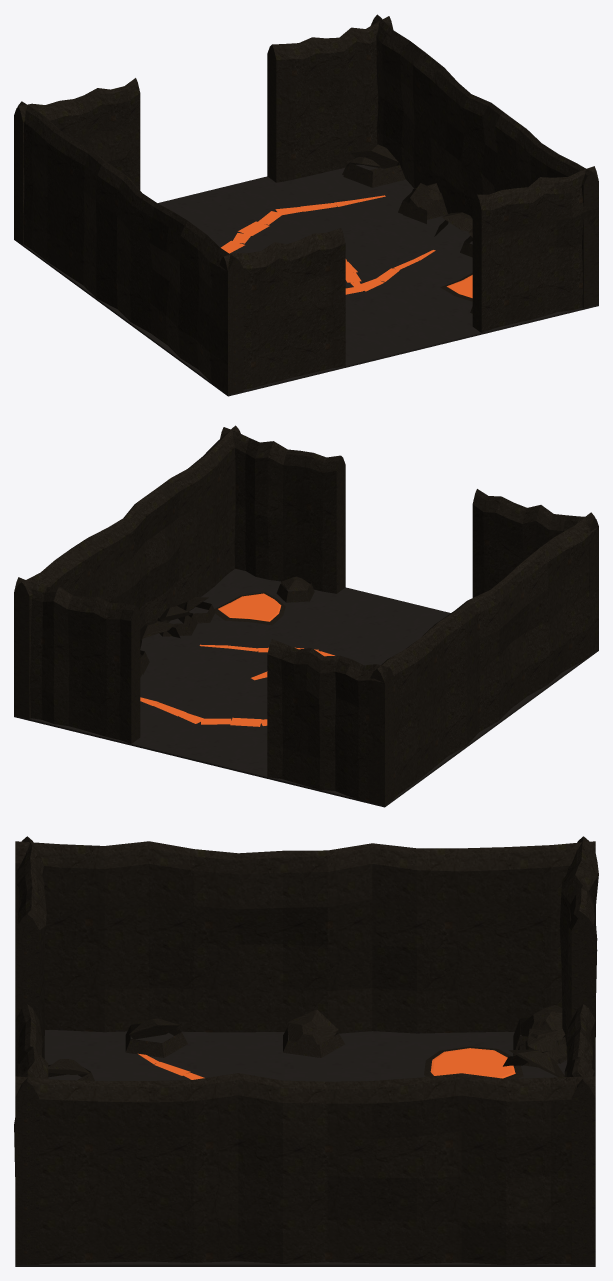
Rendered from dungeon_room_12_lava.glb.
3 views of the same model, one above another, from view 1: azimuth 30°, elevation 25°; view 2: azimuth 150°, elevation 25°; view 3: azimuth 270°, elevation 25° (orthographic). The views are drawn at different scales.
Visible parts, largest first — view 1: dungeon_room_12_lava; view 2: dungeon_room_12_lava; view 3: dungeon_room_12_lava.
Boxes of the visible parts, <box> form: dungeon_room_12_lava: <box>14,14,598,396</box>; dungeon_room_12_lava: <box>14,425,598,807</box>; dungeon_room_12_lava: <box>14,836,598,1266</box>.
Bounding box in the file's own units: 12.13 × 4.3 × 12.09.
Materials: 3 (3 with a texture image).
